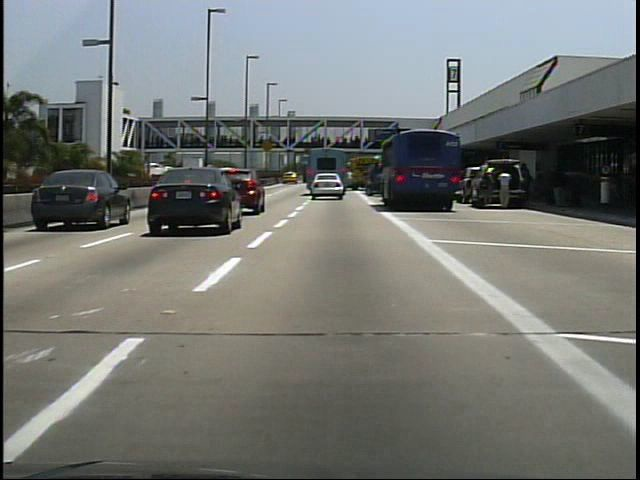person: (475, 165, 497, 215), (495, 163, 513, 212), (550, 167, 565, 209)
